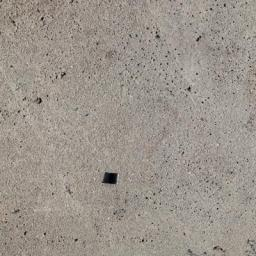FOD: (100, 170, 123, 188)
